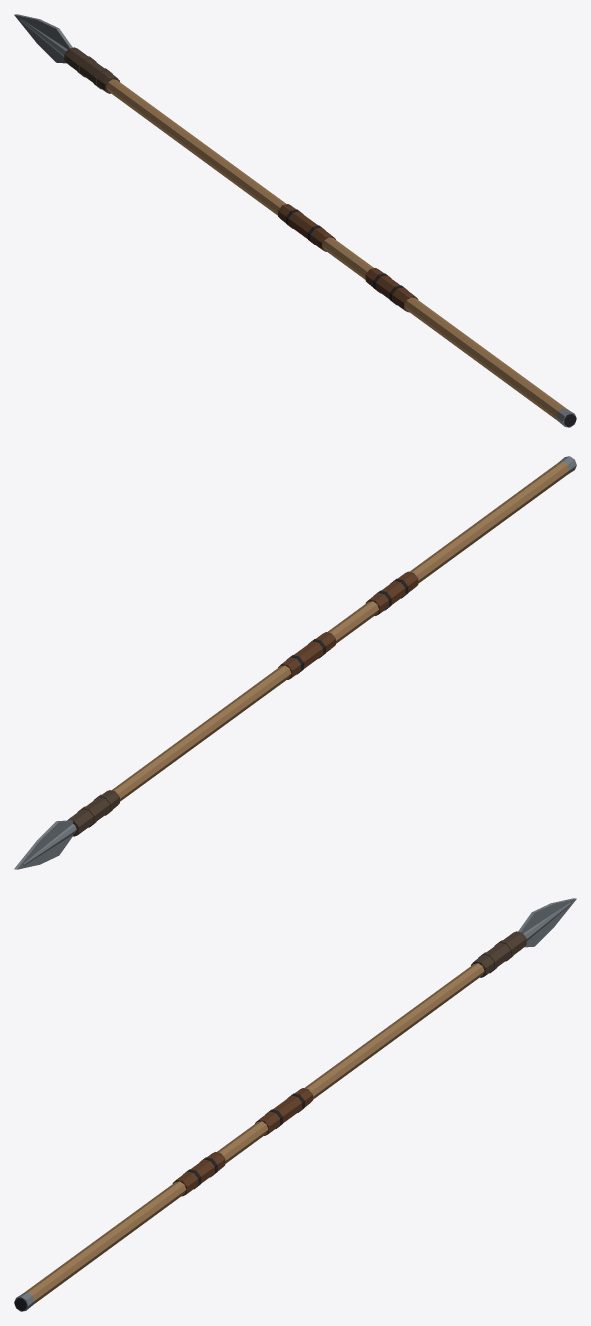
The model's file is spear.glb.
3 renders of one model, top to bottom at view 1: azimuth 30°, elevation 25°; view 2: azimuth 150°, elevation 25°; view 3: azimuth 330°, elevation 25°, orthographic.
Parts seen in each view (by area): view 1: spear; view 2: spear; view 3: spear.
Boxes of the visible parts, x1=… form: spear: x1=14, y1=14, x2=576, y2=427; spear: x1=14, y1=456, x2=576, y2=869; spear: x1=14, y1=898, x2=576, y2=1311.
Bounding box in the file's own units: 0.036 × 0.068 × 2.03.
Materials: 2 (2 with a texture image).
